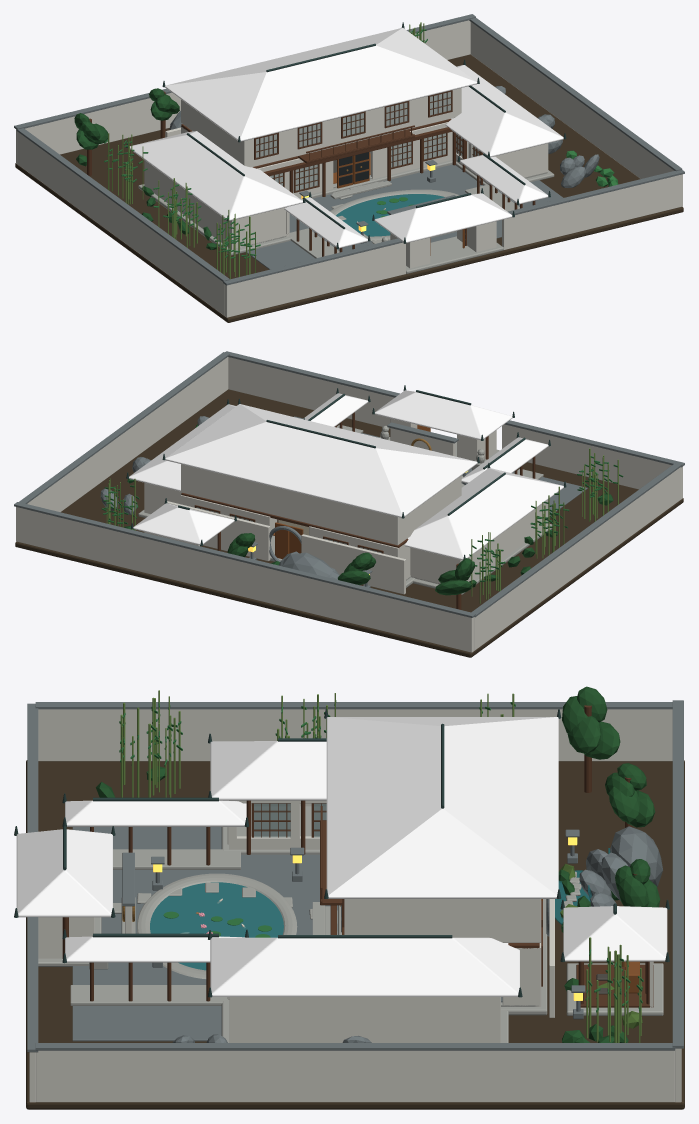
File: future_home_villa.glb
The picture shows the model from 3 angles, top to bottom: view 1: azimuth 30°, elevation 25°; view 2: azimuth 150°, elevation 25°; view 3: azimuth 270°, elevation 25°; orthographic projection. The views are drawn at different scales.
Visible parts, largest first — view 1: ROOF_Main, SITE_Base, ROOF_WestWing, WALL_West, WALL_East, WALL_South_W, WALL_South_E, MAIN_UpperFront, ROOF_EastWing, WALL_North, SITE_CourtyardStone, ROOF_Gate (+23 smaller); view 2: ROOF_Main, WALL_North, SITE_Base, WALL_West, ROOF_WestWing, MAIN_UpperBack, WALL_East, WALL_South_E, WALL_South_W, ROOF_Gate, CAP_North, GARDEN_TransitionWall_W (+20 smaller); view 3: ROOF_Main, WALL_East, SITE_Base, ROOF_EastWing, WALL_West, SITE_CourtyardStone, WING_E_OuterWall, ROOF_Gate, MAIN_UpperEast, ROOF_WestWing, ROOF_Pavilion, LAND_LotusPond_Water (+27 smaller).
Boxes of the visible parts, bbox=[...] form: ROOF_Main: bbox=[165, 27, 477, 141]; SITE_Base: bbox=[15, 54, 683, 322]; ROOF_WestWing: bbox=[130, 131, 302, 220]; WALL_West: bbox=[18, 132, 224, 315]; WALL_East: bbox=[470, 22, 673, 178]; WALL_South_W: bbox=[224, 242, 405, 317]; WALL_South_E: bbox=[502, 174, 682, 249]; MAIN_UpperFront: bbox=[242, 88, 461, 167]; ROOF_EastWing: bbox=[445, 65, 563, 157]; WALL_North: bbox=[16, 20, 470, 164]; SITE_CourtyardStone: bbox=[247, 164, 563, 269]; ROOF_Gate: bbox=[374, 193, 512, 242]; ROOF_Main: bbox=[165, 404, 477, 517]; WALL_North: bbox=[16, 507, 474, 652]; SITE_Base: bbox=[15, 389, 683, 657]; WALL_West: bbox=[474, 467, 680, 650]; ROOF_WestWing: bbox=[405, 468, 563, 560]; MAIN_UpperBack: bbox=[181, 464, 399, 545]; WALL_East: bbox=[27, 357, 228, 512]; WALL_South_E: bbox=[228, 357, 394, 428]; WALL_South_W: bbox=[502, 424, 682, 499]; ROOF_Gate: bbox=[375, 390, 512, 440]; CAP_North: bbox=[14, 502, 475, 617]; GARDEN_TransitionWall_W: bbox=[301, 534, 405, 594]; ROOF_Main: bbox=[326, 717, 558, 898]; WALL_East: bbox=[36, 1050, 674, 1102]; SITE_Base: bbox=[26, 760, 684, 1109]; ROOF_EastWing: bbox=[210, 937, 519, 996]; WALL_West: bbox=[38, 709, 672, 761]; SITE_CourtyardStone: bbox=[72, 827, 337, 1041]; WING_E_OuterWall: bbox=[229, 997, 500, 1042]; ROOF_Gate: bbox=[16, 829, 112, 917]; MAIN_UpperEast: bbox=[346, 899, 538, 942]; ROOF_WestWing: bbox=[210, 741, 326, 800]; ROOF_Pavilion: bbox=[563, 906, 667, 961]; LAND_LotusPond_Water: bbox=[150, 882, 283, 970].
Bounding box in the file's own units: 42.22 × 9.91 × 34.62.
